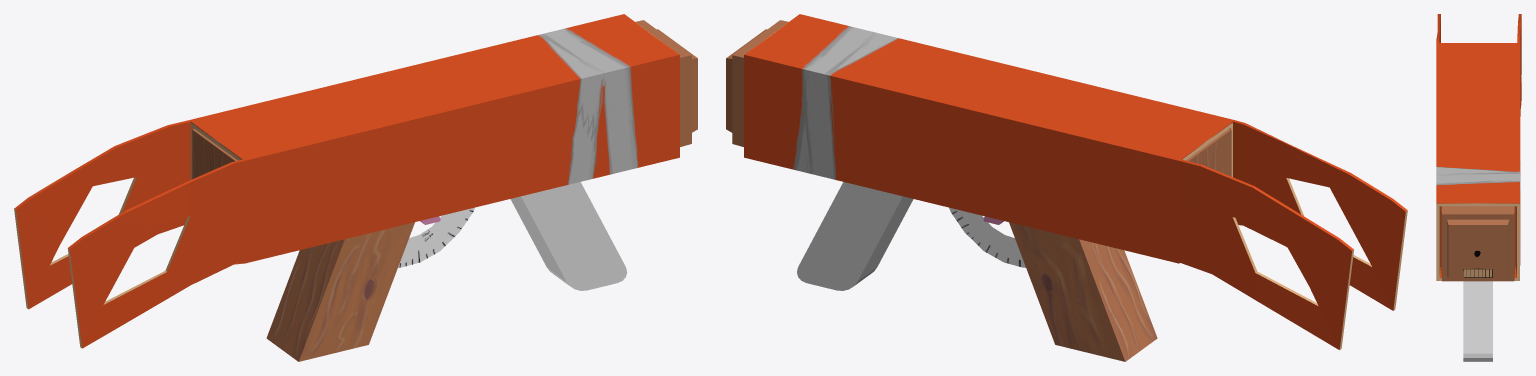
Rendered from w_SMG.fbx.
The picture shows the model from 3 angles, left to right: view 1: azimuth 30°, elevation 25°; view 2: azimuth 150°, elevation 25°; view 3: azimuth 270°, elevation 25°; orthographic projection. The views are drawn at different scales.
Visible parts, largest first — view 1: Gun Base, WoodHandle, WoodHandle.001, Round Ruler; view 2: Gun Base, WoodHandle, WoodHandle.001, Round Ruler; view 3: Gun Base, WoodHandle.001.
Part boxes in pixels (x1,y1,x2,y2): Gun Base: [14, 14, 697, 348]; WoodHandle: [266, 222, 414, 361]; WoodHandle.001: [510, 182, 627, 290]; Round Ruler: [398, 207, 474, 267]; Gun Base: [726, 14, 1407, 350]; WoodHandle: [1009, 222, 1157, 361]; WoodHandle.001: [797, 182, 913, 290]; Round Ruler: [949, 207, 1025, 267]; Gun Base: [1436, 14, 1521, 281]; WoodHandle.001: [1463, 281, 1492, 361].
Size of the model in its own units: 77.88 by 27.04 by 12.05.
